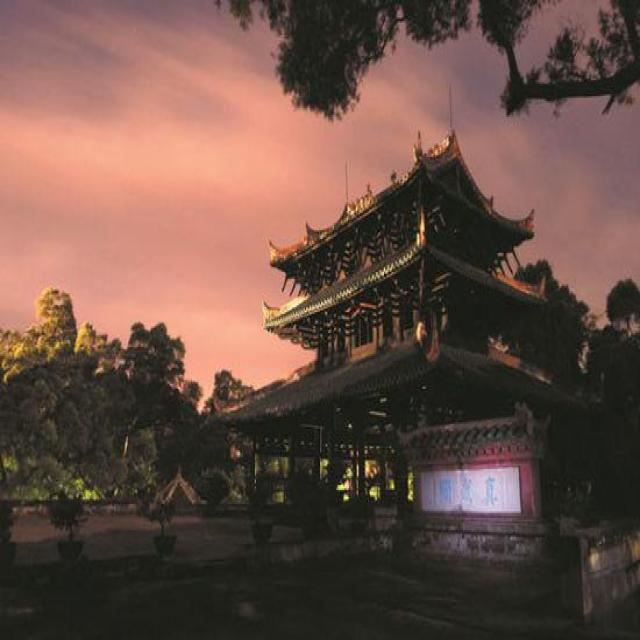other: (324, 450, 416, 504), (18, 291, 89, 353), (263, 286, 306, 323)
